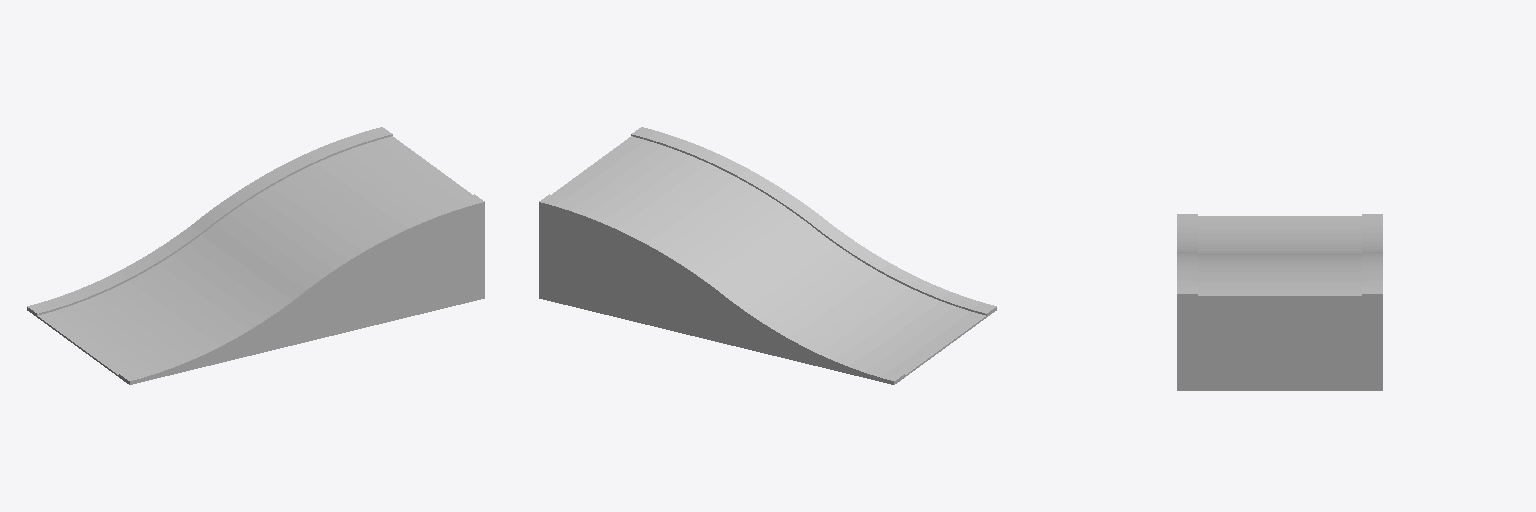
Rendered from road_slantCurve.obj.
3 views of the same model, side by side, from view 1: azimuth 30°, elevation 25°; view 2: azimuth 150°, elevation 25°; view 3: azimuth 270°, elevation 25° (orthographic).
Parts seen in each view (by area): view 1: road_slantCurve; view 2: road_slantCurve; view 3: road_slantCurve.
Boxes of the visible parts, <box> form: road_slantCurve: <box>27,127,484,384</box>; road_slantCurve: <box>539,127,996,384</box>; road_slantCurve: <box>1177,214,1382,390</box>.
Size of the model in its own units: 2 by 0.52 by 1.